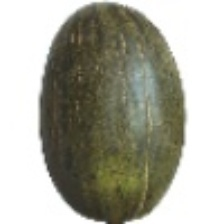honeydew: (32, 13, 171, 184)
